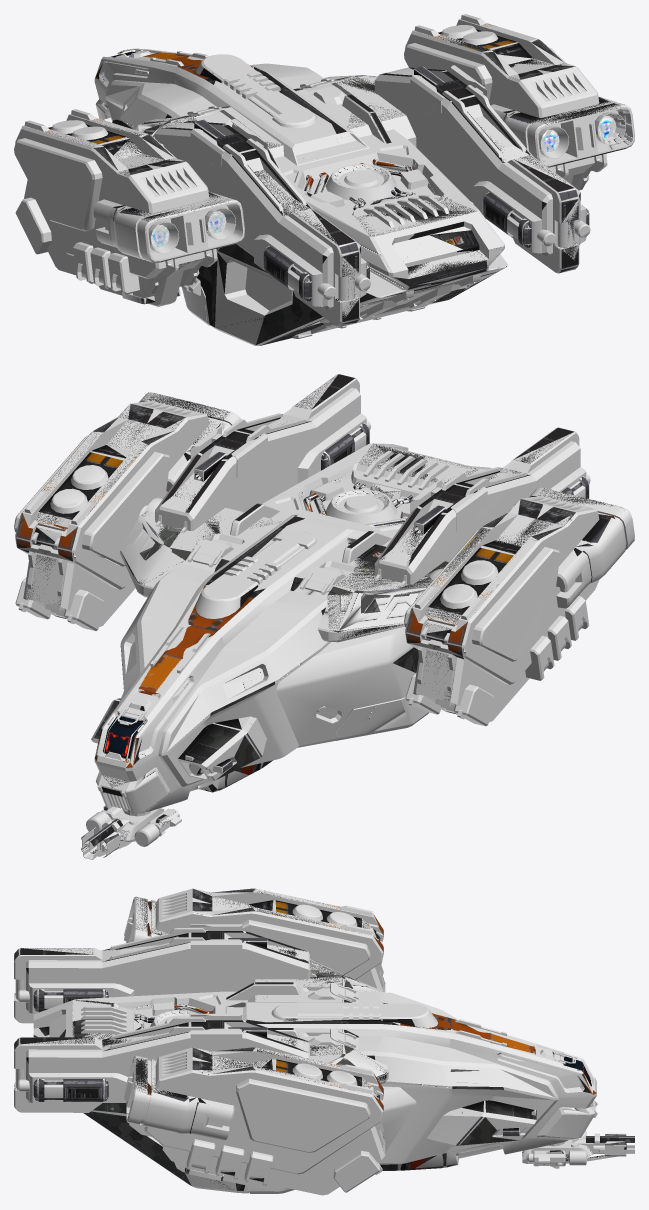
Rendered from sf_dropship_r35.fbx.
3 renders of one model, top to bottom at view 1: azimuth 30°, elevation 25°; view 2: azimuth 150°, elevation 25°; view 3: azimuth 270°, elevation 25°, orthographic. The views are drawn at different scales.
Visible parts, largest first — view 1: PlacementSurface, Render_LOD0; view 2: PlacementSurface, Render_LOD0; view 3: PlacementSurface, Render_LOD0.
Part boxes in pixels (x1=…): PlacementSurface: x1=14, y1=14, x2=634, y2=345; Render_LOD0: x1=34, y1=23, x2=625, y2=345; PlacementSurface: x1=14, y1=374, x2=634, y2=859; Render_LOD0: x1=16, y1=374, x2=625, y2=856; PlacementSurface: x1=14, y1=888, x2=634, y2=1195; Render_LOD0: x1=14, y1=888, x2=634, y2=1190.
Size of what is drawn, in the model's own units: 4.54 by 1.97 by 6.
